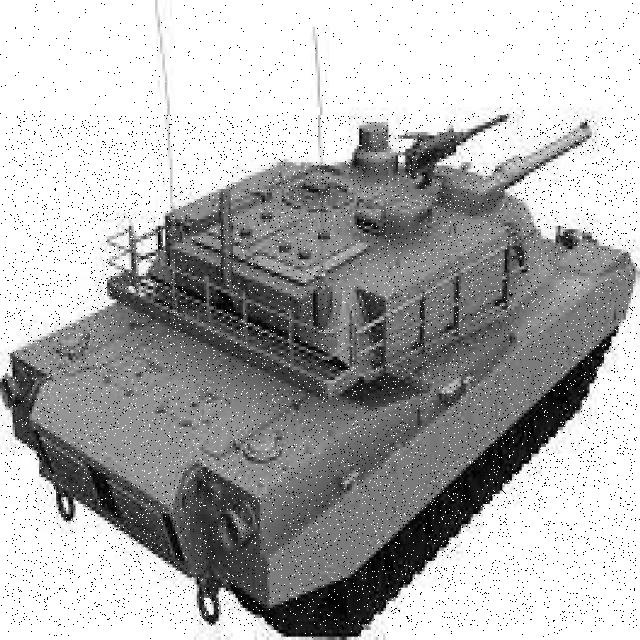MIL_MBT: (6, 115, 637, 626)
